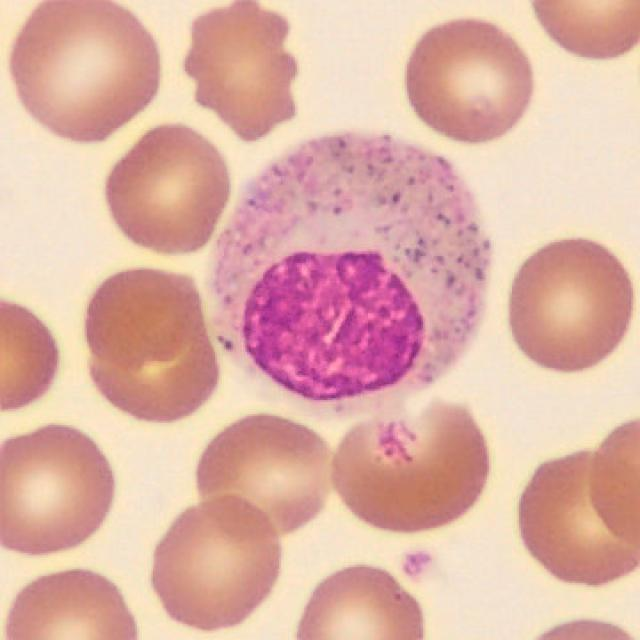Neutrofilo segmentado: (197, 133, 492, 404)
